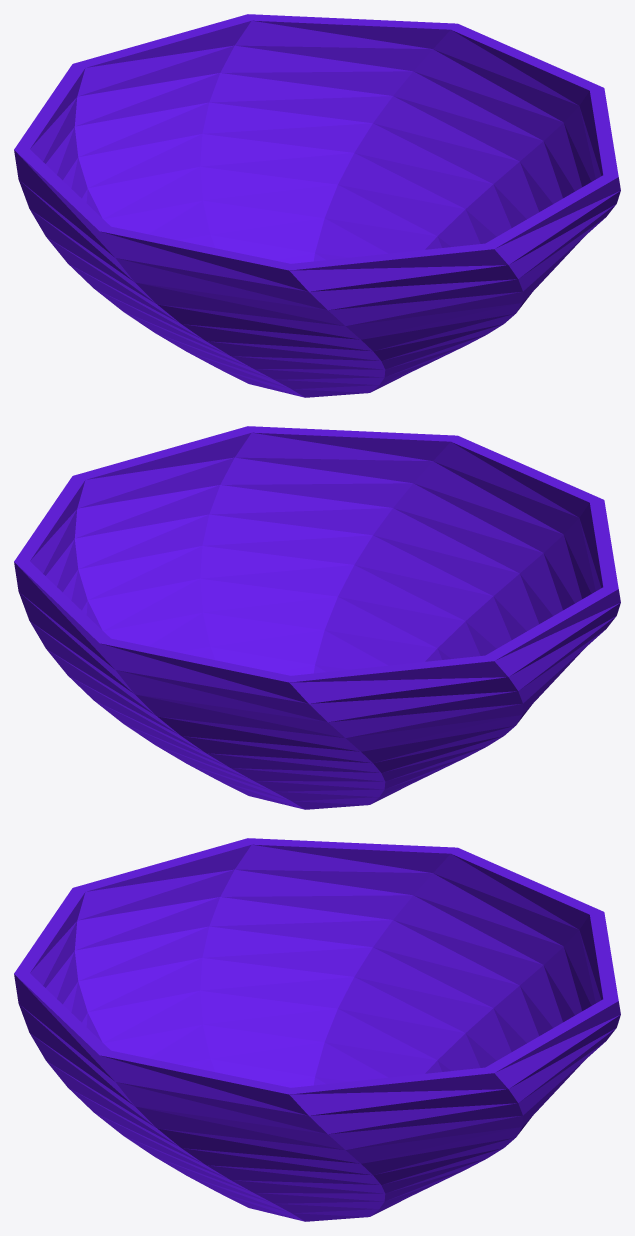
The model's file is cuenco-twist.glb.
3 views of the same model, one above another, from view 1: azimuth 30°, elevation 25°; view 2: azimuth 150°, elevation 25°; view 3: azimuth 270°, elevation 25° (orthographic).
Visible parts, largest first — view 1: cuenco-twist; view 2: cuenco-twist; view 3: cuenco-twist.
Boxes of the visible parts, <box> form: cuenco-twist: <box>14,14,620,397</box>; cuenco-twist: <box>14,426,620,809</box>; cuenco-twist: <box>14,838,620,1221</box>.
Bounding box in the file's own units: 0.171 × 0.0675 × 0.171.
